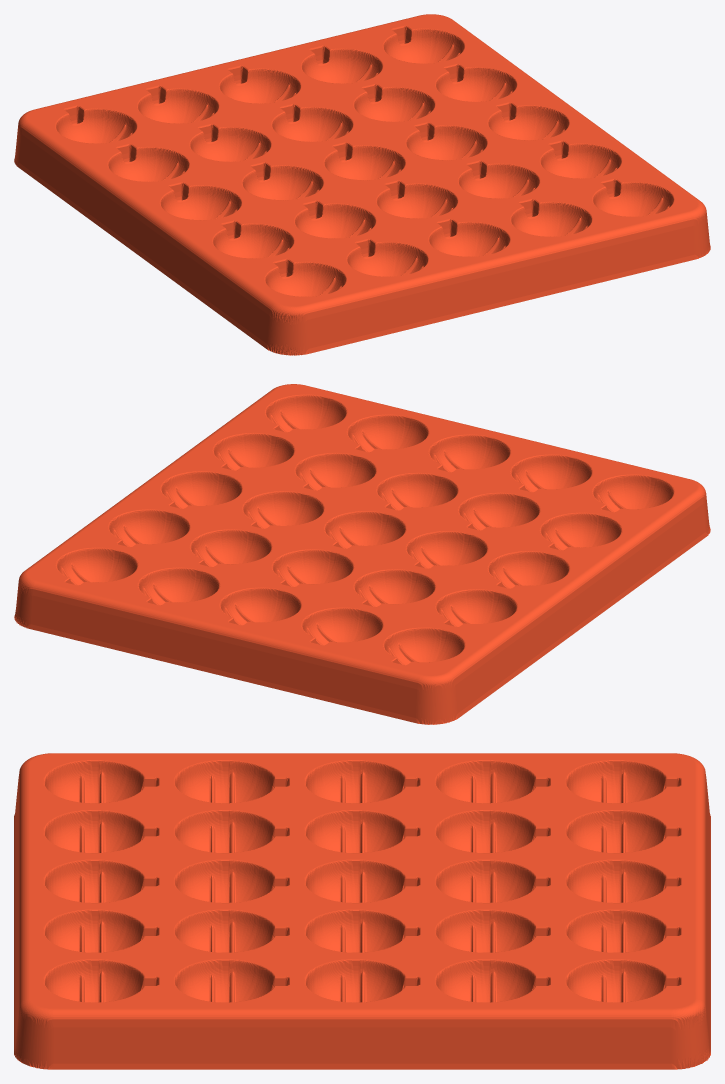
File: mold.glb
3 views of the same model, one above another, from view 1: azimuth 30°, elevation 25°; view 2: azimuth 150°, elevation 25°; view 3: azimuth 270°, elevation 25° (orthographic). The views are drawn at different scales.
Visible parts, largest first — view 1: geometry_0; view 2: geometry_0; view 3: geometry_0.
Boxes of the visible parts, <box> form: geometry_0: <box>14,14,710,355</box>; geometry_0: <box>14,384,710,724</box>; geometry_0: <box>14,753,710,1069</box>.
Bounding box in the file's own units: 0.1441 × 0.0136 × 0.1584.
